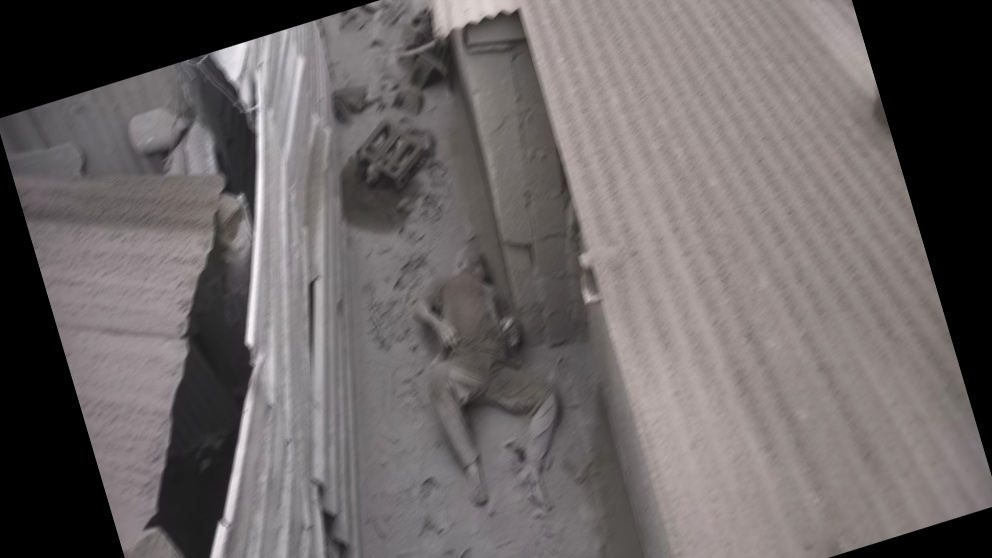Korban: (394, 230, 590, 535)
